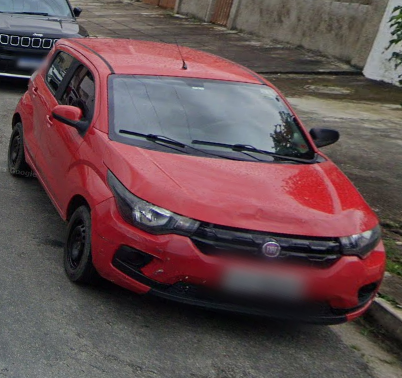car: (12, 34, 391, 334)
